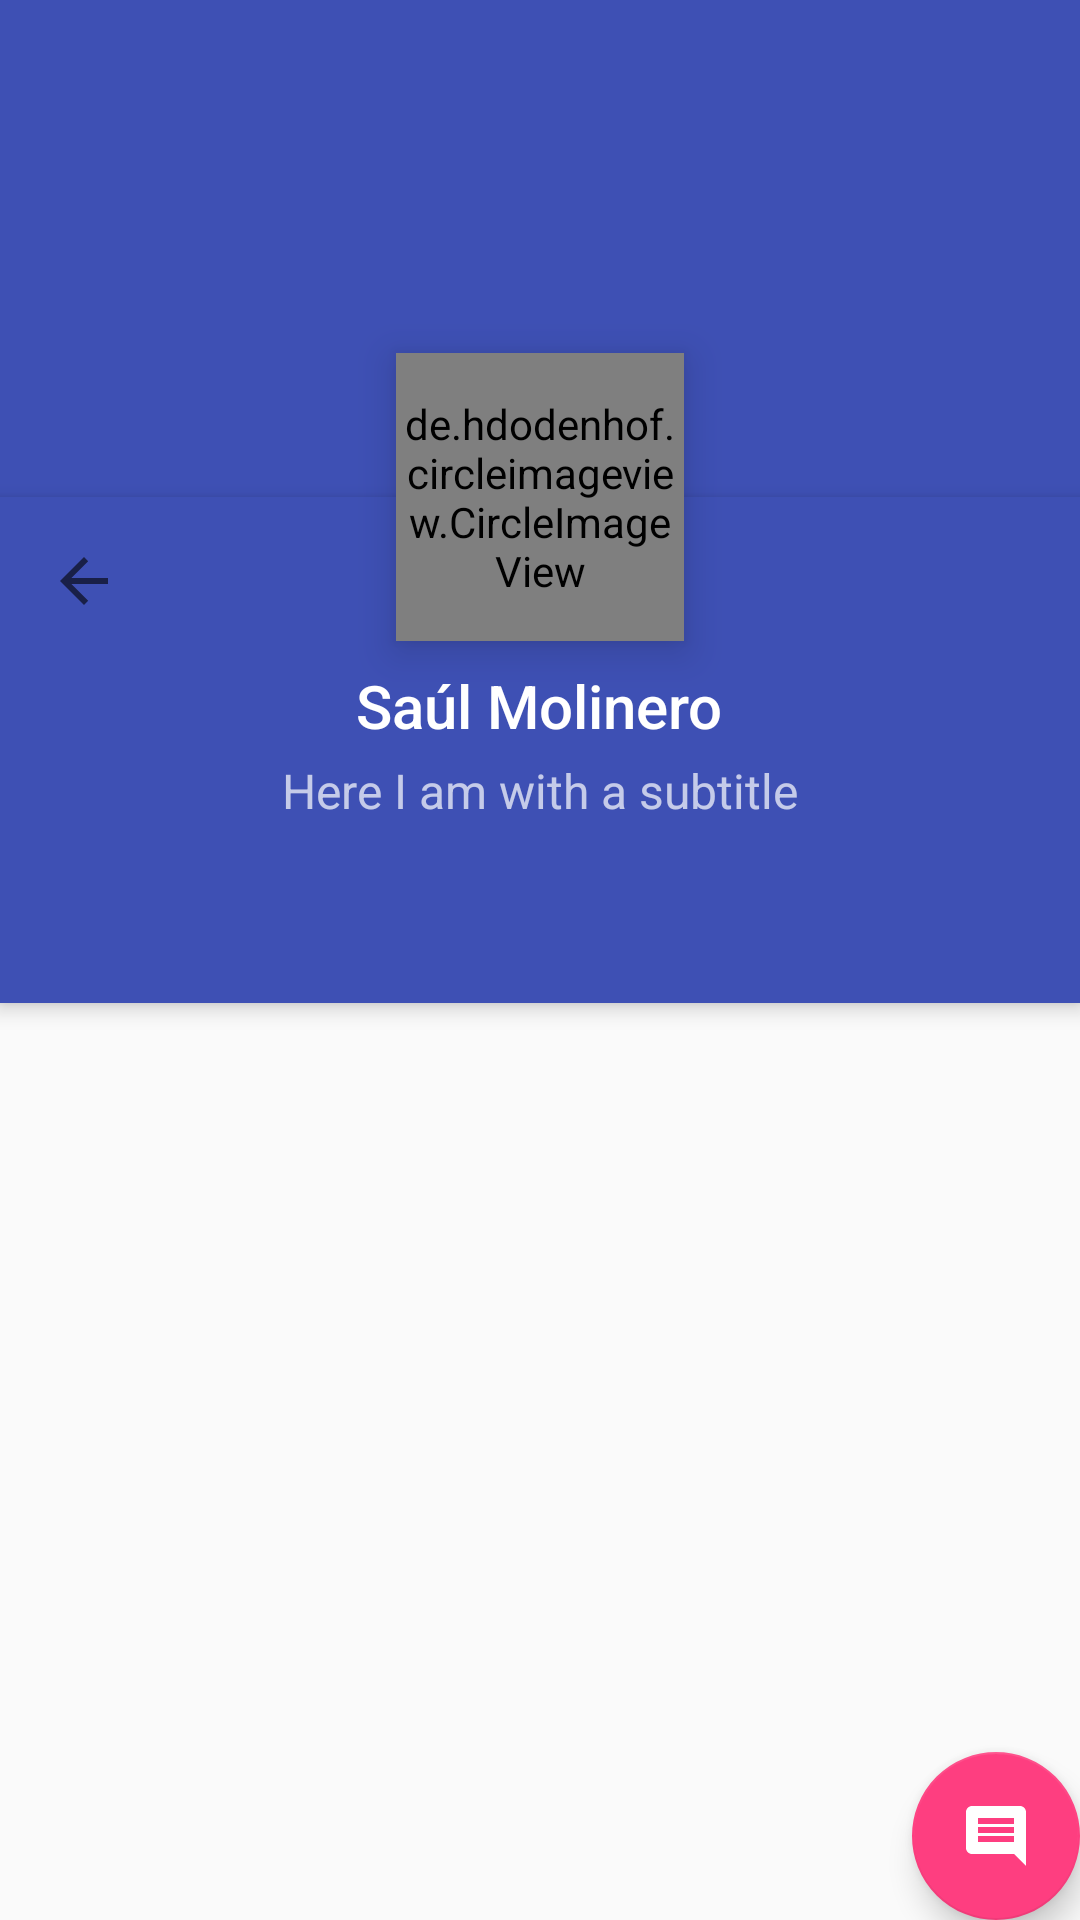

Point at icon controls on the screen. Image size 1080×1920, points as (x,y).
comment: (996,1836)
